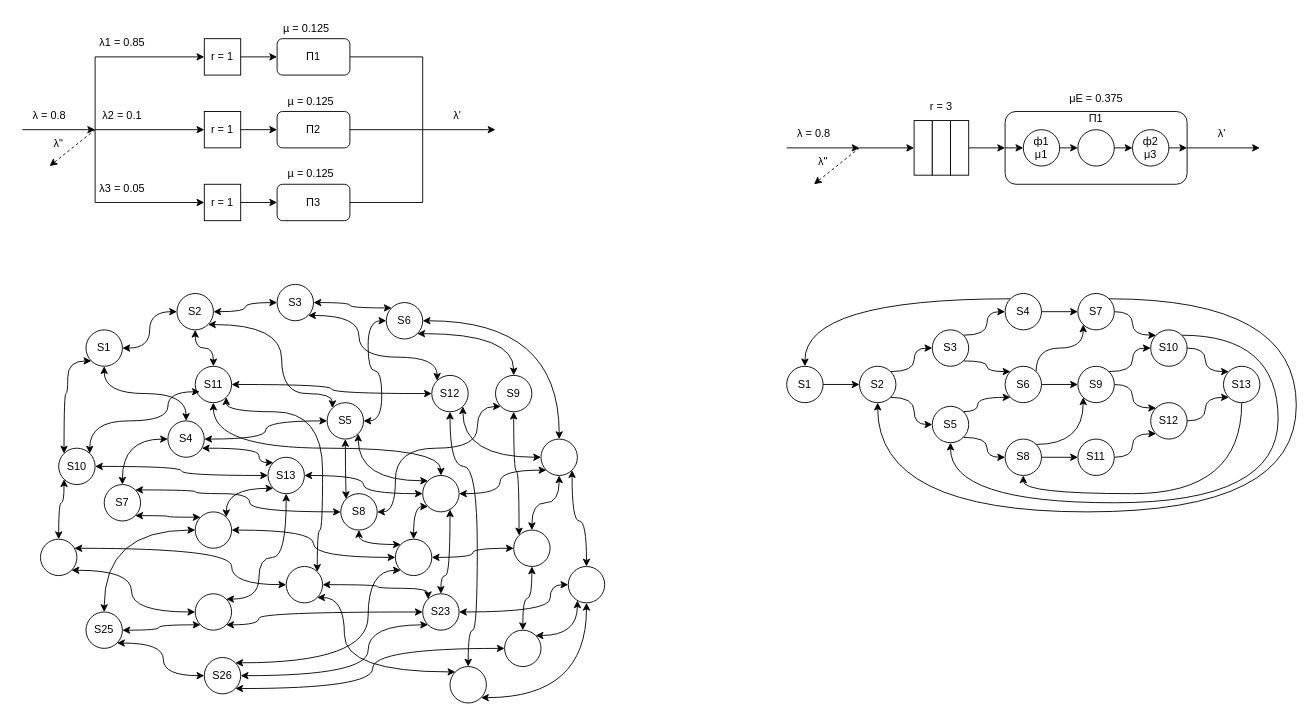
Some shapes in this 1312 by 719 pixel diagram are drawn without their labels. The centre of each missing label's shape, as x and y in pixels:
S14: the point at 440,493
S15: the point at 558,456
S16: the point at 213,529
S17: the point at 413,557
S18: the point at 531,547
S19: the point at 58,557
S20: the point at 304,584
S21: the point at 467,684
S22: the point at 213,611
S24: the point at 586,584
S27: the point at 522,648
ф2 μ2: the point at 1095,147
